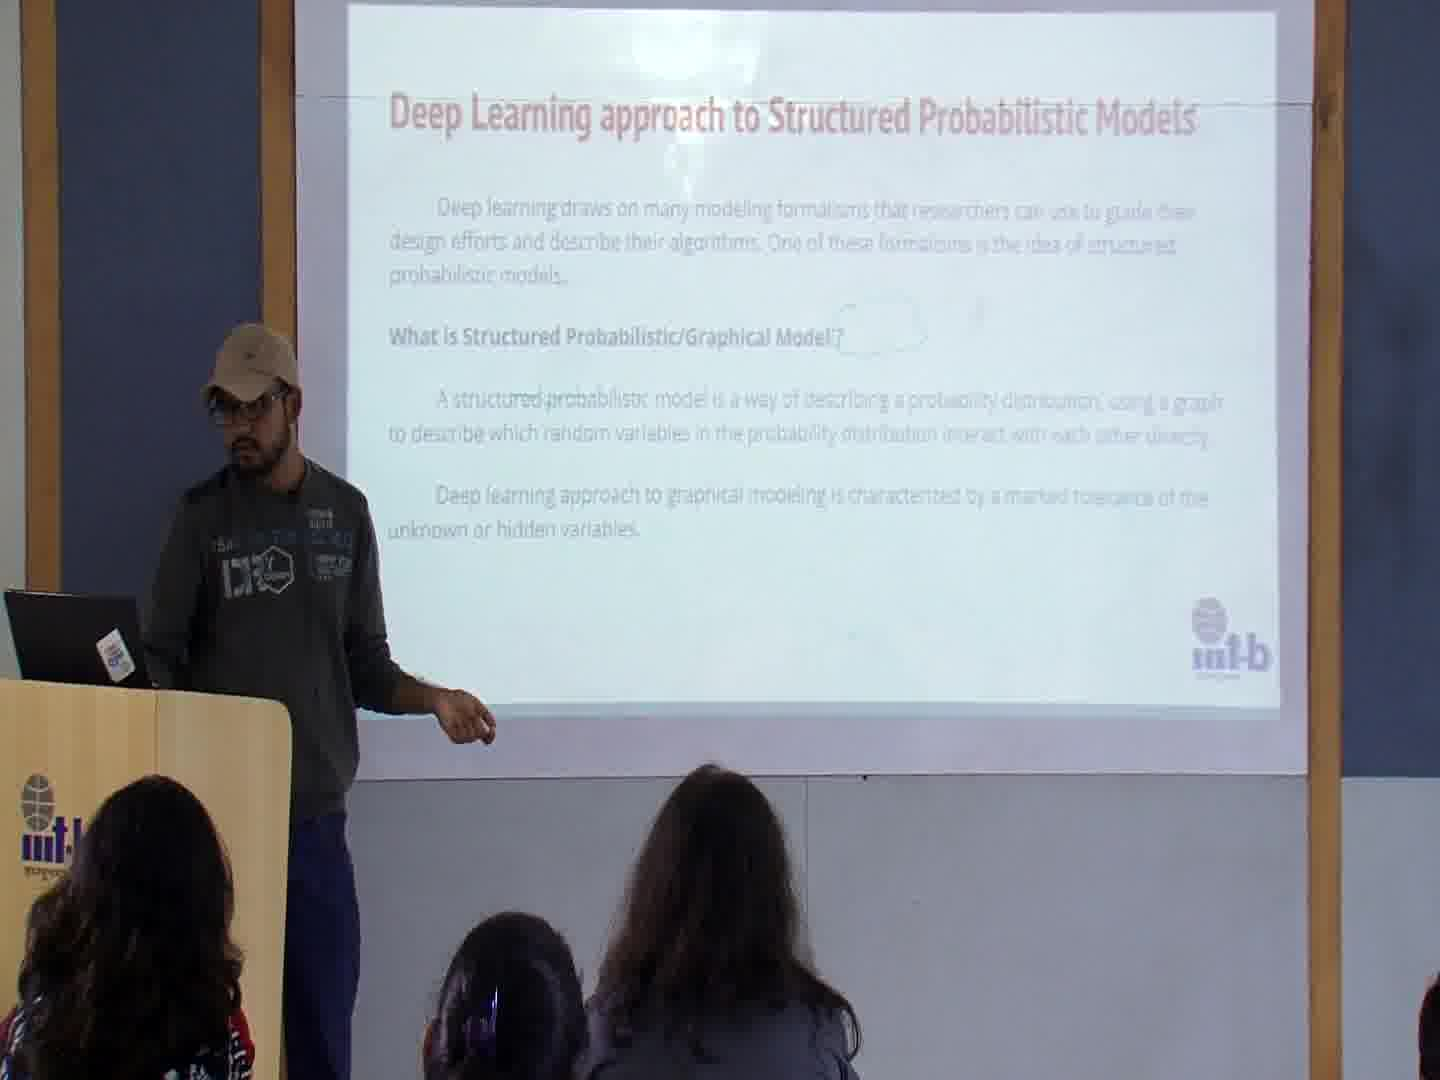slide: (345, 3, 1281, 716)
